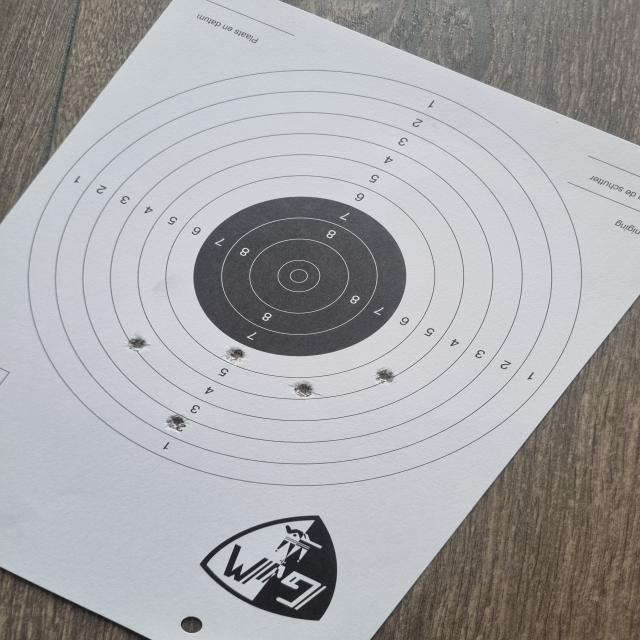3: (164, 414, 192, 435)
4: (124, 334, 152, 355)
5: (373, 366, 400, 386), (290, 381, 317, 400)
6: (224, 346, 248, 366)
Target: (21, 67, 582, 488)
black_contour: (192, 196, 409, 358)
